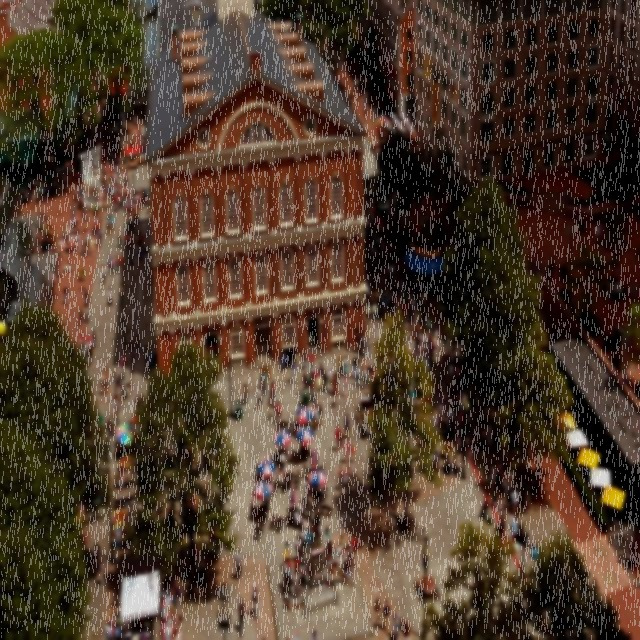pessoa: (362, 211, 410, 287), (76, 118, 130, 183), (73, 45, 122, 116), (12, 160, 74, 206), (74, 464, 114, 530), (364, 286, 428, 318), (95, 182, 153, 212), (122, 489, 144, 555), (153, 570, 178, 620), (319, 34, 346, 78), (401, 316, 434, 342), (406, 344, 434, 374), (368, 356, 396, 384), (60, 212, 78, 254), (290, 437, 314, 467), (458, 392, 473, 428), (202, 479, 216, 516), (494, 521, 510, 552), (236, 596, 246, 638), (324, 566, 340, 592), (294, 527, 304, 567), (286, 574, 295, 614), (250, 584, 259, 624), (500, 466, 516, 488), (354, 330, 367, 357), (382, 598, 391, 636), (392, 606, 402, 640), (191, 540, 201, 574), (91, 210, 102, 240), (482, 421, 493, 451), (275, 462, 288, 487), (373, 596, 382, 632), (92, 549, 102, 581), (493, 490, 507, 512), (510, 485, 519, 519), (304, 524, 314, 554), (206, 342, 216, 372), (234, 547, 242, 583), (296, 579, 304, 613), (174, 610, 183, 640), (108, 411, 118, 438), (294, 533, 302, 566), (293, 506, 304, 530), (337, 463, 345, 496), (446, 334, 456, 360), (336, 552, 344, 584), (306, 490, 314, 522), (114, 522, 122, 554), (103, 434, 112, 462), (361, 76, 368, 112), (132, 231, 142, 256), (302, 556, 310, 587), (334, 423, 342, 454), (344, 462, 352, 492), (343, 558, 351, 587), (482, 490, 490, 519), (278, 346, 287, 371), (112, 392, 120, 420), (178, 544, 186, 572), (298, 560, 306, 588), (402, 618, 412, 640), (268, 396, 278, 418), (128, 409, 138, 431), (98, 559, 105, 590), (344, 412, 352, 439), (256, 385, 264, 412), (314, 372, 322, 399), (510, 515, 518, 542), (443, 452, 452, 476), (352, 533, 358, 568), (323, 544, 333, 565), (293, 570, 300, 600), (274, 400, 282, 426), (331, 372, 339, 398), (286, 564, 292, 598), (358, 390, 370, 407), (442, 390, 454, 407), (335, 540, 345, 560), (130, 124, 140, 144), (82, 286, 91, 308), (300, 536, 306, 568), (447, 404, 455, 428), (298, 500, 307, 521), (118, 469, 126, 492), (74, 227, 82, 250), (364, 301, 372, 324), (426, 330, 434, 353), (208, 524, 215, 550), (351, 354, 358, 380), (443, 402, 450, 428), (104, 620, 113, 640), (305, 520, 316, 536), (499, 507, 506, 532), (115, 384, 122, 408), (121, 376, 128, 400), (328, 368, 334, 396), (294, 348, 300, 376), (496, 460, 502, 488), (104, 368, 110, 396), (464, 434, 470, 462), (150, 352, 156, 379), (134, 394, 141, 417), (409, 317, 416, 340), (292, 556, 300, 576), (114, 620, 122, 640), (106, 216, 114, 236), (491, 464, 496, 496), (610, 282, 618, 302), (147, 348, 153, 374), (85, 230, 91, 256), (344, 438, 350, 464), (242, 380, 248, 406), (290, 358, 296, 384), (322, 367, 328, 393), (259, 374, 266, 396), (342, 376, 349, 398), (605, 280, 612, 302), (121, 626, 132, 640), (118, 375, 124, 400), (100, 371, 106, 396), (128, 337, 134, 362), (334, 380, 339, 410), (448, 360, 454, 385), (88, 236, 95, 257), (125, 229, 132, 250), (455, 362, 462, 383), (110, 611, 118, 629), (342, 354, 348, 378), (362, 366, 368, 390), (374, 324, 382, 342), (438, 398, 446, 416), (408, 388, 416, 406), (416, 334, 422, 358), (442, 328, 448, 352), (308, 368, 314, 392), (594, 221, 602, 239), (82, 212, 89, 232), (279, 448, 286, 468), (269, 382, 276, 402), (414, 322, 421, 342), (140, 232, 146, 255), (304, 475, 310, 498), (302, 347, 308, 370), (318, 400, 323, 427), (282, 558, 289, 577), (250, 499, 257, 518), (454, 414, 461, 433), (78, 306, 84, 328), (62, 284, 68, 306), (101, 264, 107, 286), (117, 252, 123, 274), (146, 252, 152, 274), (134, 206, 140, 228), (365, 336, 371, 358), (452, 454, 458, 476), (262, 368, 267, 394), (300, 526, 308, 542), (91, 328, 97, 349), (108, 286, 114, 307), (340, 532, 344, 562), (87, 344, 93, 364), (83, 304, 89, 324), (106, 256, 112, 276), (31, 190, 37, 210), (113, 192, 119, 212), (312, 368, 318, 388), (355, 366, 361, 386), (372, 302, 378, 322), (422, 330, 428, 350), (124, 470, 130, 489), (456, 432, 462, 451), (174, 626, 182, 640), (132, 114, 139, 130), (312, 404, 319, 420), (433, 412, 438, 434), (433, 334, 438, 356), (324, 526, 330, 544), (284, 540, 290, 558), (98, 410, 104, 428), (86, 331, 92, 349), (70, 202, 76, 220), (302, 368, 308, 386), (318, 362, 324, 380), (360, 358, 366, 376), (80, 239, 86, 257), (116, 606, 122, 624), (434, 447, 441, 462), (512, 511, 519, 526), (72, 186, 78, 203), (135, 334, 140, 354), (144, 234, 149, 254), (350, 444, 355, 464), (366, 362, 372, 378), (348, 88, 354, 104), (109, 256, 114, 275), (142, 133, 146, 156), (389, 630, 398, 640), (147, 194, 152, 212), (338, 356, 343, 374), (109, 622, 114, 640), (317, 362, 323, 377), (272, 394, 276, 416), (140, 392, 145, 409), (286, 558, 292, 572), (380, 325, 386, 339), (312, 629, 320, 639), (138, 246, 143, 262), (98, 228, 102, 248), (138, 624, 146, 634), (154, 351, 158, 370), (114, 255, 118, 274), (118, 231, 122, 250), (120, 365, 124, 383), (140, 136, 144, 154), (283, 461, 289, 473), (271, 379, 275, 397), (434, 326, 440, 338), (616, 282, 622, 294), (564, 187, 570, 199), (116, 372, 121, 386), (76, 184, 81, 198), (110, 215, 114, 232), (469, 444, 473, 461), (80, 333, 84, 349), (74, 196, 78, 212), (286, 444, 290, 460), (354, 76, 358, 92), (93, 214, 99, 224), (130, 220, 134, 234), (364, 104, 368, 118), (336, 354, 339, 371), (120, 354, 125, 364), (82, 344, 86, 356), (358, 90, 361, 106), (80, 188, 84, 198), (108, 212, 112, 220), (262, 636, 266, 640)
